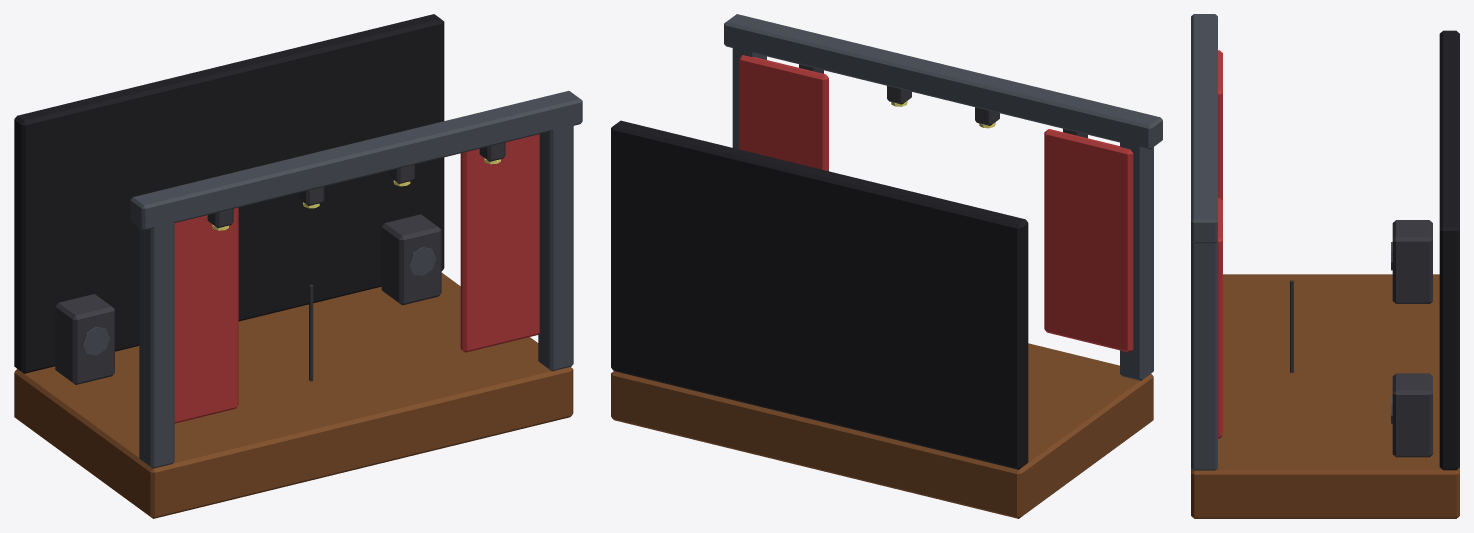
File: ConcertStage.fbx
The picture shows the model from 3 angles, left to right: view 1: azimuth 30°, elevation 25°; view 2: azimuth 150°, elevation 25°; view 3: azimuth 270°, elevation 25°; orthographic projection. The views are drawn at different scales.
Parts seen in each view (by area): view 1: ConcertStage; view 2: ConcertStage; view 3: ConcertStage.
Boxes of the visible parts, x1,y1,x2,y2 form: ConcertStage: [14, 14, 582, 518]; ConcertStage: [611, 14, 1162, 518]; ConcertStage: [1191, 14, 1459, 518].
Bounding box in the file's own units: 14.6 × 10 × 8.
1 material, 1 textured.
